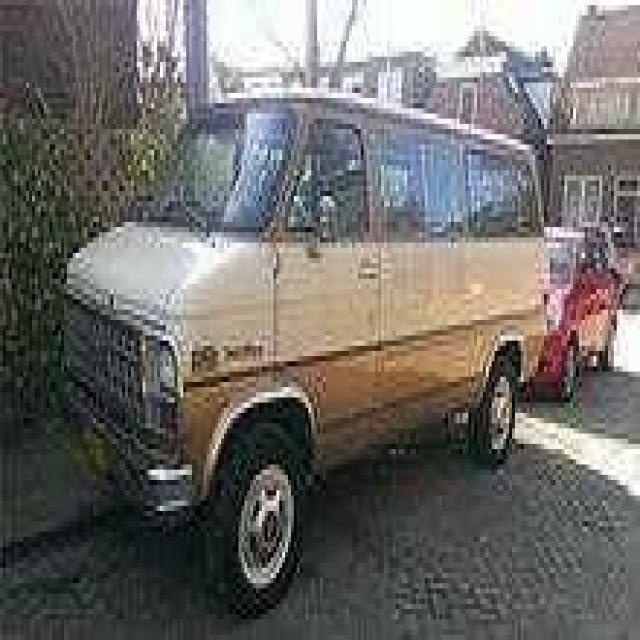Van: (58, 83, 550, 620)
